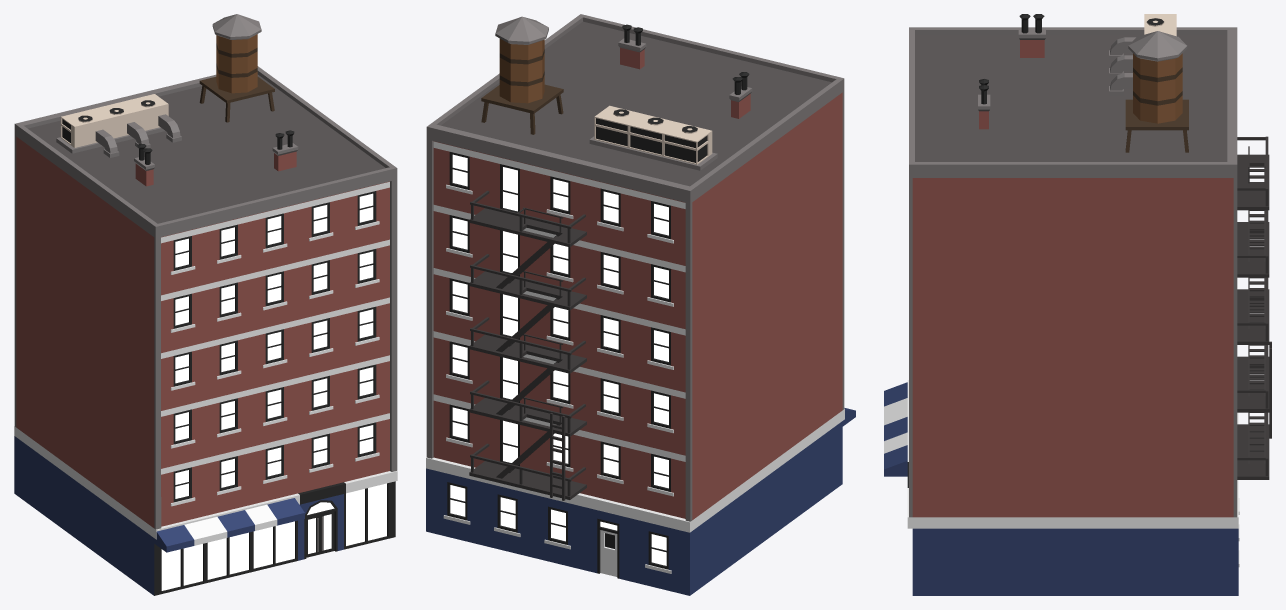
Rendered from buildings-building-block-5floor.glb.
3 renders of one model, left to right at view 1: azimuth 30°, elevation 25°; view 2: azimuth 150°, elevation 25°; view 3: azimuth 270°, elevation 25°, orthographic. The views are drawn at different scales.
Parts seen in each view (by area): view 1: building-block-5floor; view 2: building-block-5floor; view 3: building-block-5floor.
Part boxes in pixels (x1,y1,x2,y2): building-block-5floor: [14, 14, 397, 595]; building-block-5floor: [426, 14, 855, 595]; building-block-5floor: [884, 14, 1271, 595].
Size of the model in its own units: 13.1 by 23.81 by 15.65.
